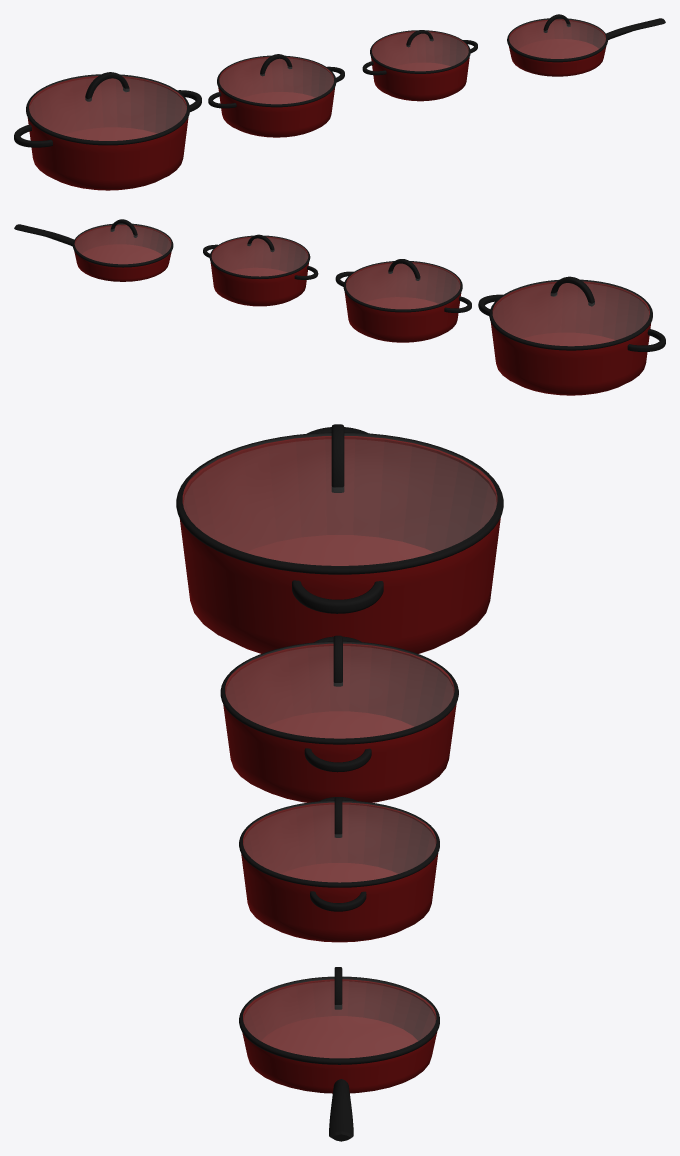
The model's file is Soucepan_506.obj.
The picture shows the model from 3 angles, top to bottom: view 1: azimuth 30°, elevation 25°; view 2: azimuth 150°, elevation 25°; view 3: azimuth 270°, elevation 25°; orthographic projection. The views are drawn at different scales.
Parts seen in each view (by area): view 1: ChamferCyl001, ChamferCyl006, ChamferCyl008, ChamferCyl010, ChamferCyl007, ChamferCyl011, ChamferCyl012, ChamferCyl009, Arc001, Line001, Arc003; view 2: ChamferCyl001, ChamferCyl006, ChamferCyl008, ChamferCyl010, ChamferCyl007, ChamferCyl011, ChamferCyl012, ChamferCyl009, Arc001, Line001, Arc003; view 3: ChamferCyl001, ChamferCyl006, ChamferCyl008, ChamferCyl010, ChamferCyl007, ChamferCyl011, ChamferCyl012, ChamferCyl009, Arc002, Line001.
Part boxes in pixels (x1,y1,x2,y2): ChamferCyl001: [27, 76, 188, 190]; ChamferCyl006: [26, 74, 189, 145]; ChamferCyl008: [218, 56, 334, 137]; ChamferCyl010: [371, 31, 469, 101]; ChamferCyl007: [217, 55, 336, 107]; ChamferCyl011: [509, 19, 606, 76]; ChamferCyl012: [507, 18, 607, 62]; ChamferCyl009: [370, 30, 470, 73]; Arc001: [85, 72, 129, 101]; Line001: [606, 18, 665, 40]; Arc003: [14, 124, 52, 147]; ChamferCyl001: [490, 281, 650, 395]; ChamferCyl006: [489, 279, 652, 350]; ChamferCyl008: [344, 262, 461, 342]; ChamferCyl010: [210, 236, 308, 306]; ChamferCyl007: [343, 261, 462, 312]; ChamferCyl011: [74, 224, 171, 281]; ChamferCyl012: [73, 223, 173, 267]; ChamferCyl009: [209, 235, 310, 278]; Arc001: [550, 276, 594, 306]; Line001: [14, 224, 73, 246]; Arc003: [627, 329, 665, 351]; ChamferCyl001: [179, 436, 500, 653]; ChamferCyl006: [176, 432, 503, 574]; ChamferCyl008: [223, 643, 456, 802]; ChamferCyl010: [241, 802, 438, 942]; ChamferCyl007: [220, 641, 458, 744]; ChamferCyl011: [242, 979, 437, 1093]; ChamferCyl012: [239, 976, 439, 1064]; ChamferCyl009: [239, 800, 439, 887]; Arc002: [292, 580, 383, 613]; Line001: [329, 1079, 353, 1141].
Size of the model in its own units: 131 by 18.8 by 28.72.
